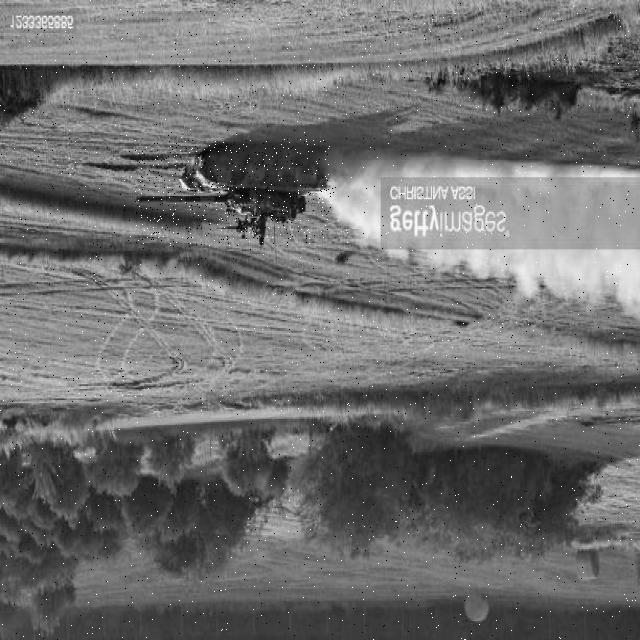MIL_MBT: (135, 139, 331, 247)
